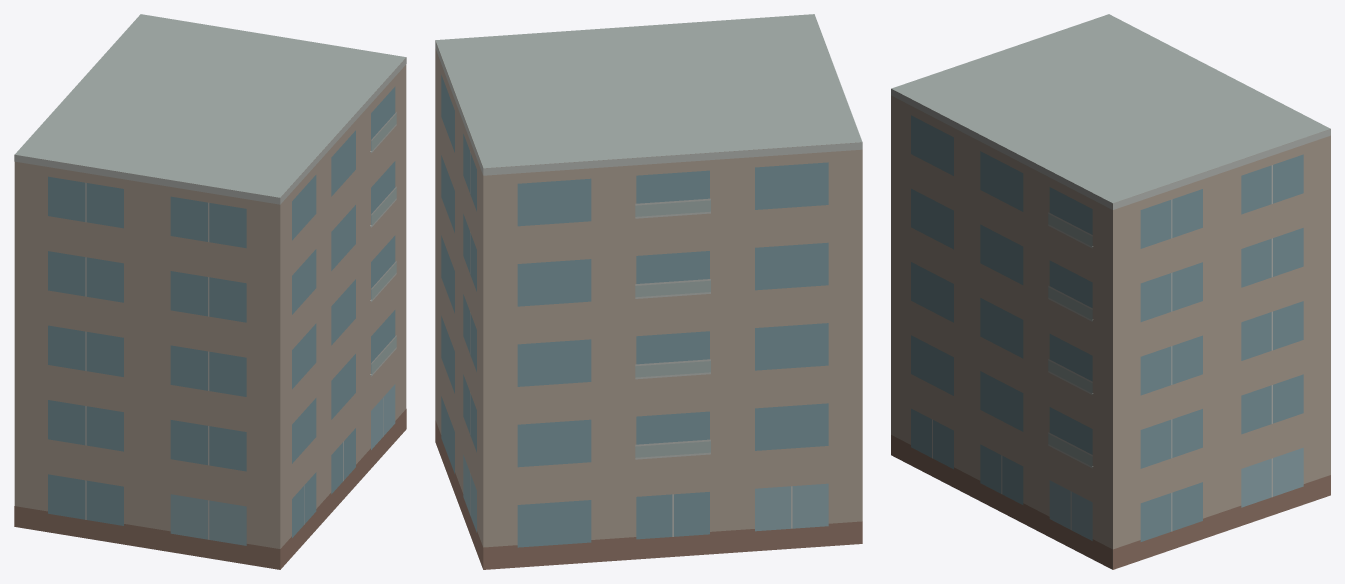
Rendered from survey-upis-32872382.glb.
The picture shows the model from 3 angles, left to right: view 1: azimuth 30°, elevation 25°; view 2: azimuth 150°, elevation 25°; view 3: azimuth 270°, elevation 25°; orthographic projection. The views are drawn at different scales.
Visible parts, largest first — view 1: survey-upis-32872382.tmp; view 2: survey-upis-32872382.tmp; view 3: survey-upis-32872382.tmp.
Boxes of the visible parts, x1,y1,x2,y2 form: survey-upis-32872382.tmp: (14,14,406,569); survey-upis-32872382.tmp: (435,14,862,569); survey-upis-32872382.tmp: (891,14,1330,569).
Bounding box in the file's own units: 14.63 × 13.2 × 14.36.
